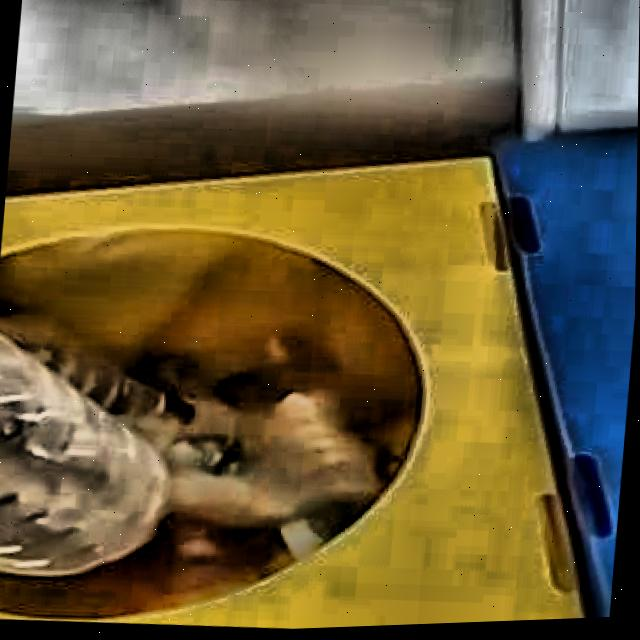plastic: (0, 340, 167, 577)
